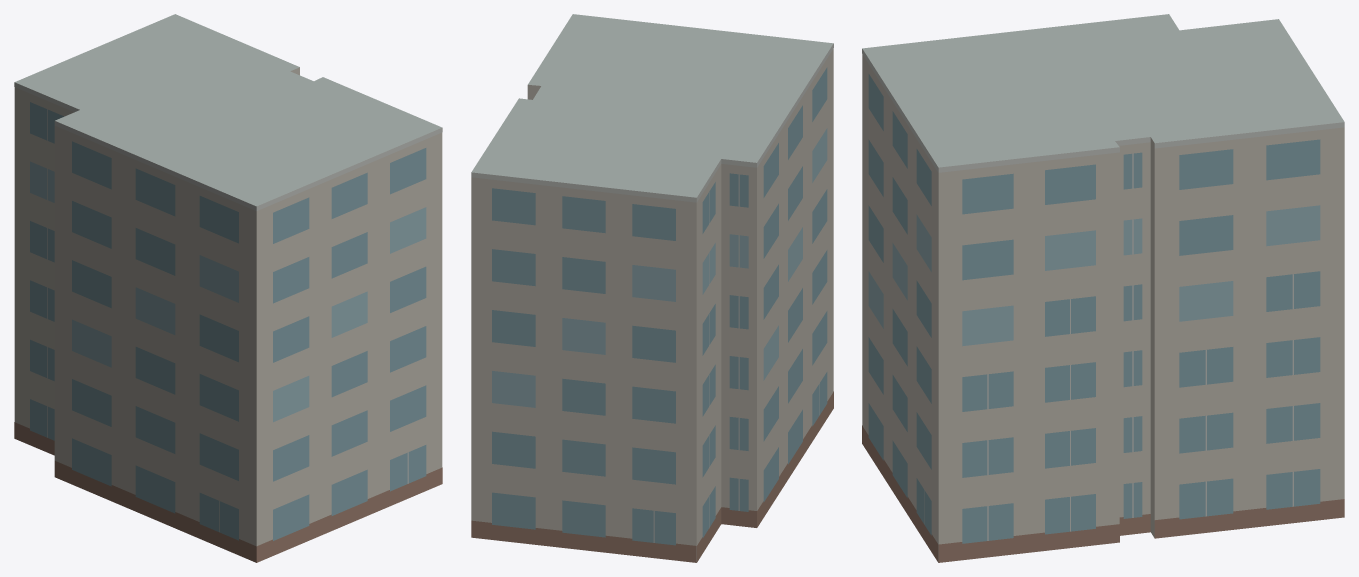
File: survey-upis-32725456.glb
3 views of the same model, side by side, from view 1: azimuth 30°, elevation 25°; view 2: azimuth 150°, elevation 25°; view 3: azimuth 270°, elevation 25° (orthographic). The views are drawn at different scales.
Parts seen in each view (by area): view 1: survey-upis-32725456.tmp; view 2: survey-upis-32725456.tmp; view 3: survey-upis-32725456.tmp.
Part boxes in pixels (x1,y1,x2,y2): survey-upis-32725456.tmp: (14, 14, 442, 562); survey-upis-32725456.tmp: (471, 14, 833, 562); survey-upis-32725456.tmp: (862, 14, 1344, 562).
Size of the model in its own units: 15.26 by 18.3 by 20.26.
